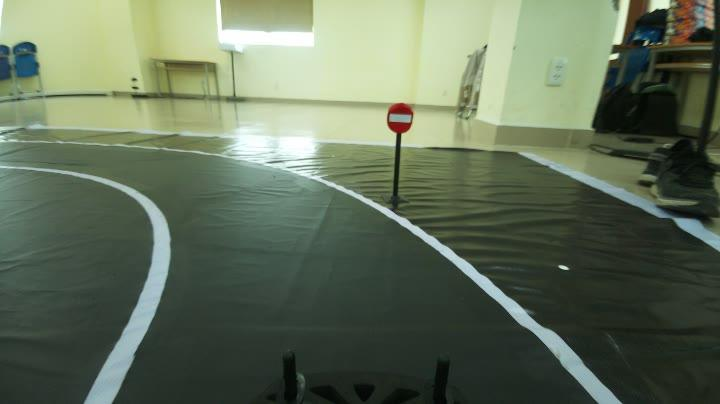no_entry: (374, 94, 429, 140)
